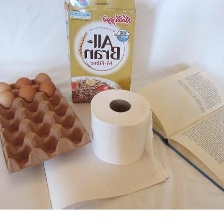book: (128, 62, 224, 194), (60, 0, 141, 108)
tissue: (35, 83, 175, 208)
